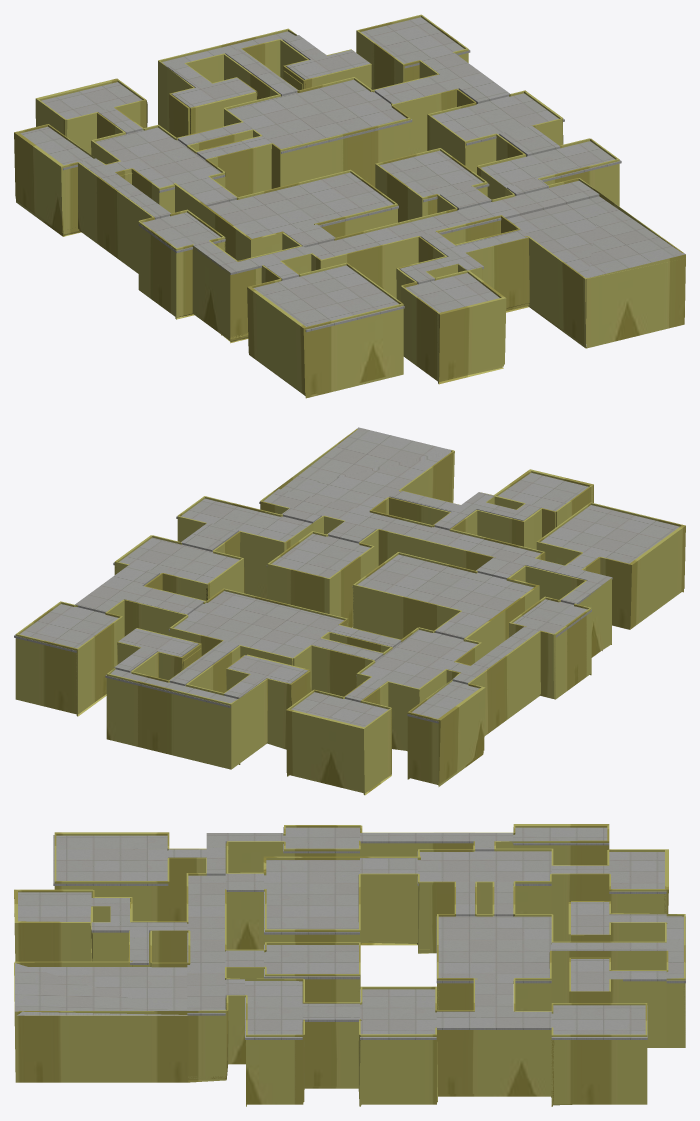
File: Backrooms.fbx
3 views of the same model, one above another, from view 1: azimuth 30°, elevation 25°; view 2: azimuth 150°, elevation 25°; view 3: azimuth 270°, elevation 25° (orthographic). The views are drawn at different scales.
Visible parts, largest first — view 1: ParedesPiso, Techo; view 2: ParedesPiso, Techo; view 3: ParedesPiso, Techo.
Part boxes in pixels (x1,y1,x2,y2): ParedesPiso: (14, 14, 685, 398); Techo: (20, 17, 685, 332); ParedesPiso: (15, 429, 685, 795); Techo: (14, 427, 679, 727); ParedesPiso: (14, 824, 685, 1106); Techo: (15, 827, 685, 1039).
Size of the model in its own units: 5244 by 832 by 7029.
